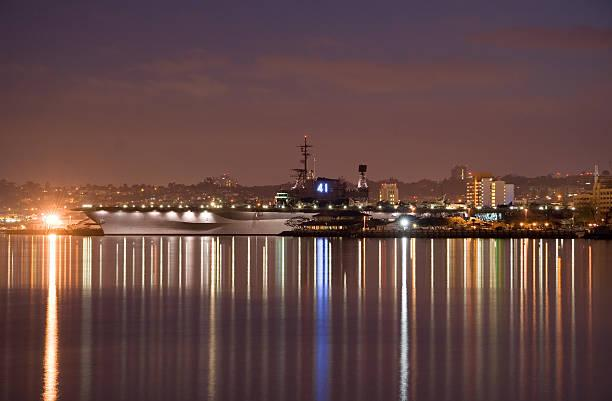MIL_Ship: (73, 133, 451, 234)
